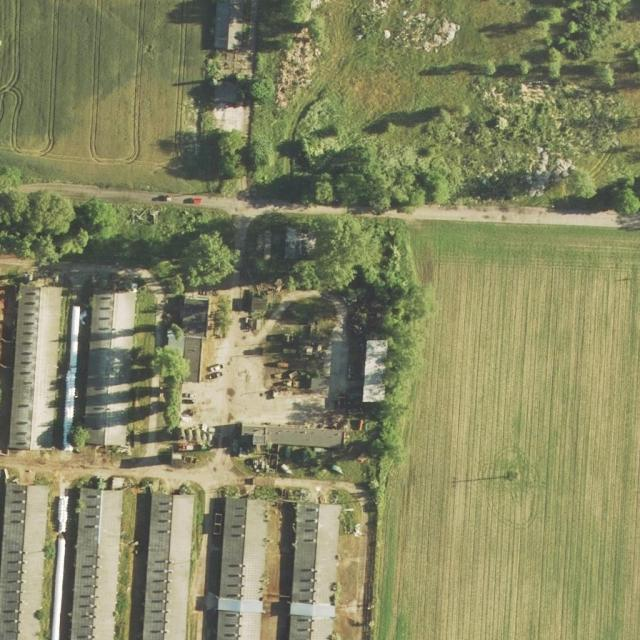agricultural_land: (0, 0, 213, 184)
building: (8, 284, 63, 451), (82, 289, 138, 447), (289, 502, 341, 640), (60, 305, 82, 451), (50, 492, 70, 640), (241, 498, 268, 603), (243, 425, 344, 447), (256, 225, 317, 261), (362, 339, 388, 404), (239, 611, 261, 639), (195, 426, 201, 442)
dryland: (186, 287, 350, 422), (337, 497, 370, 640)
greenland: (258, 0, 640, 211), (0, 204, 228, 296)
